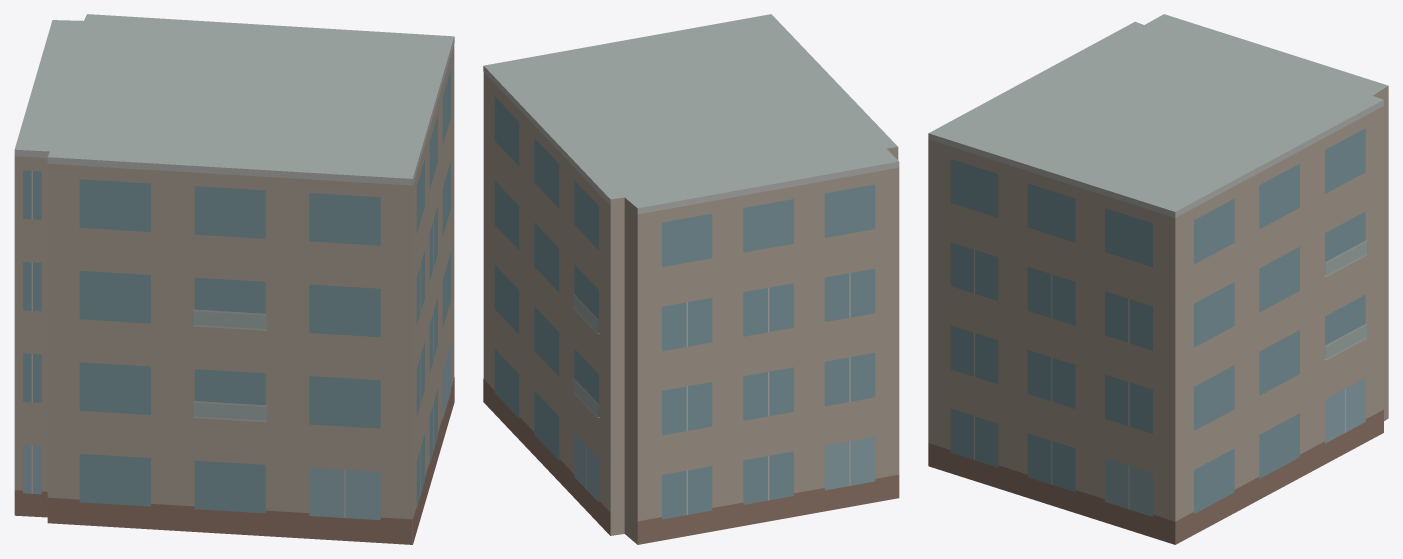
The model's file is survey-upis-32641683.glb.
The picture shows the model from 3 angles, left to right: view 1: azimuth 30°, elevation 25°; view 2: azimuth 150°, elevation 25°; view 3: azimuth 270°, elevation 25°; orthographic projection. The views are drawn at different scales.
Parts seen in each view (by area): view 1: survey-upis-32641683.tmp; view 2: survey-upis-32641683.tmp; view 3: survey-upis-32641683.tmp.
Boxes of the visible parts, x1,y1,x2,y2 form: survey-upis-32641683.tmp: (14, 14, 454, 544); survey-upis-32641683.tmp: (483, 14, 899, 544); survey-upis-32641683.tmp: (928, 14, 1388, 544).
Bounding box in the file's own units: 17.23 × 13.5 × 16.92.
